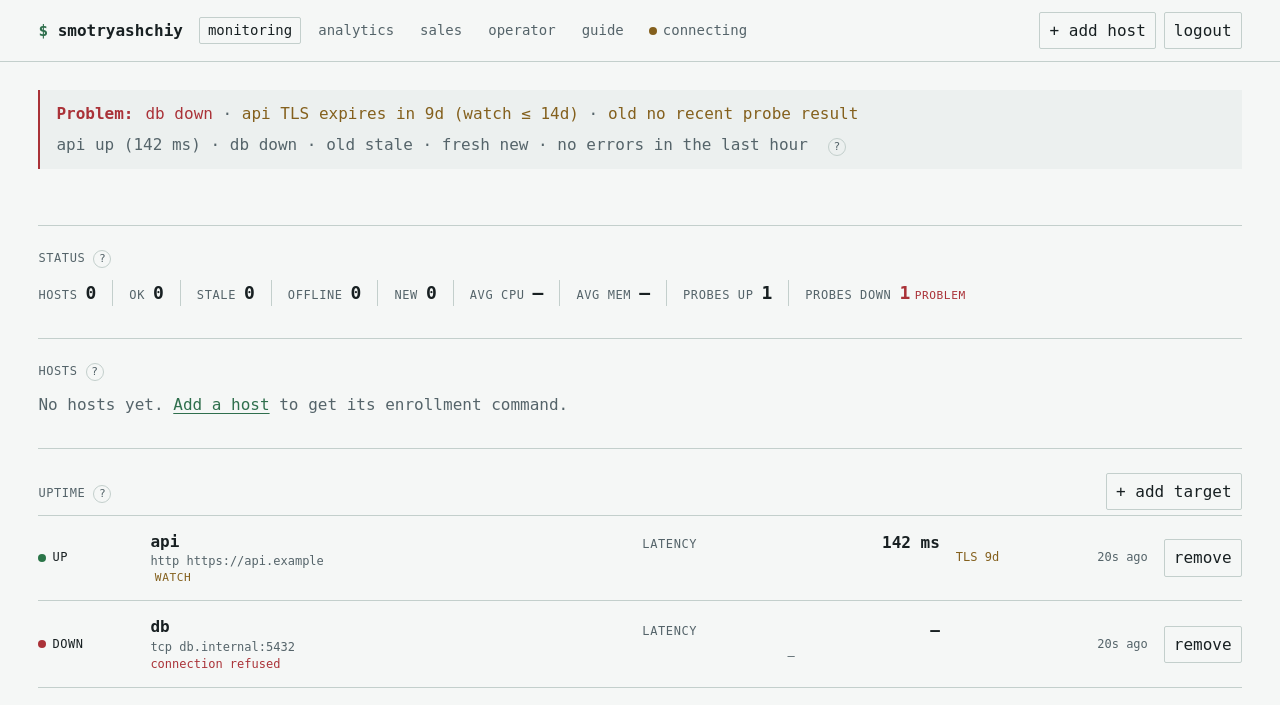
Test: removing a target › asks inline first, and cancel changes nothing
Click the button with aria-label "Remove api": (1203, 558) [1164,539,1242,577]
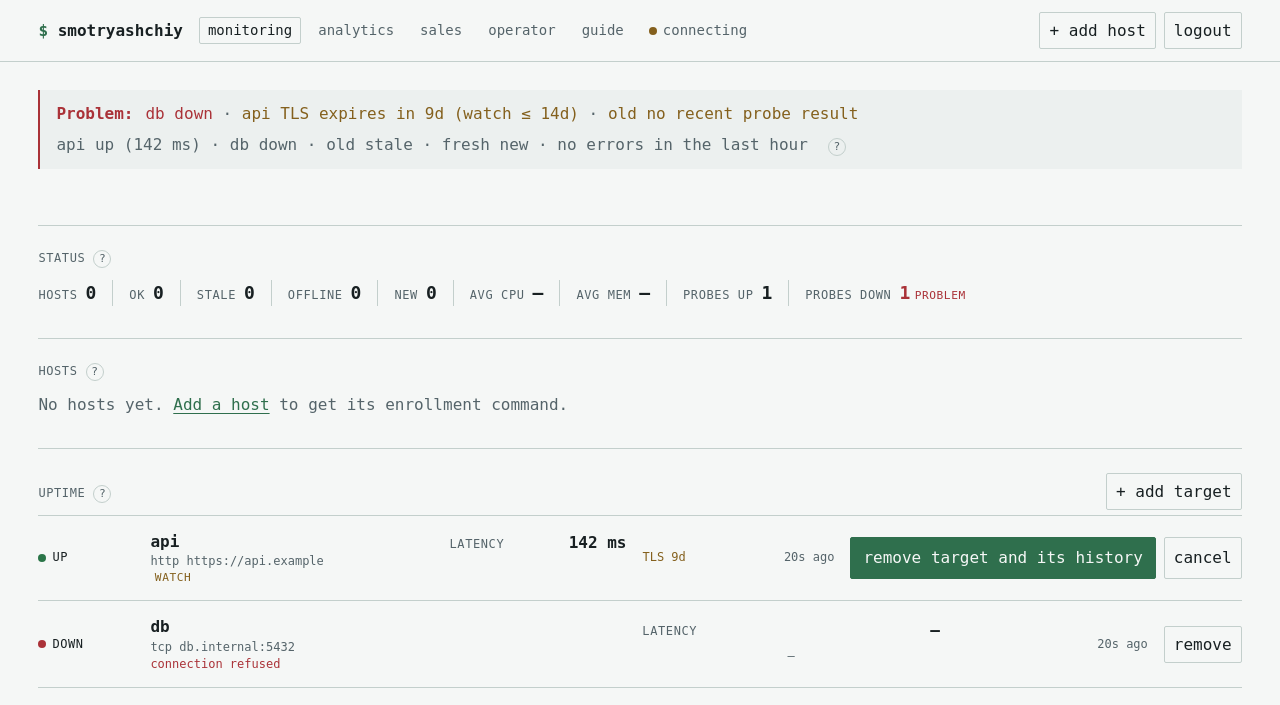
Now the element named "Confirm removing api" is shown, box [850,537,1242,579]
Click the button "cancel": (1203, 558) [1164,537,1242,579]
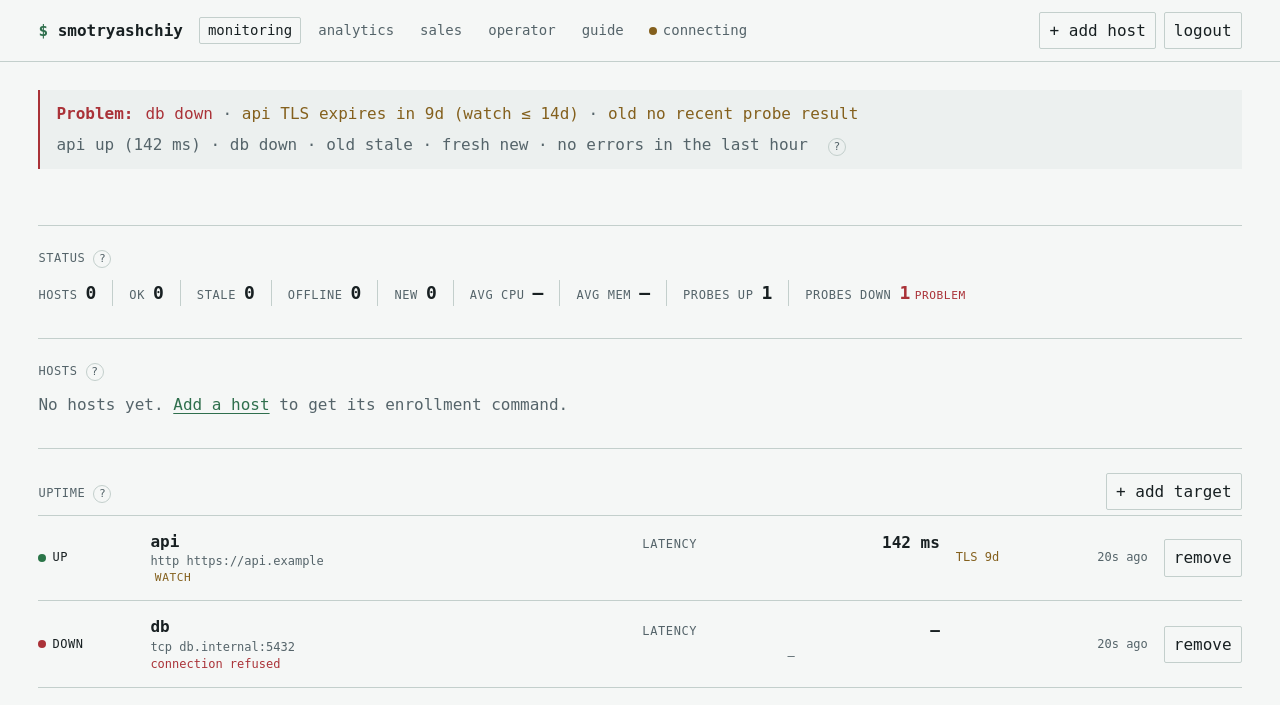
Now the button with aria-label "Remove api" is shown, box [1164,539,1242,577]
